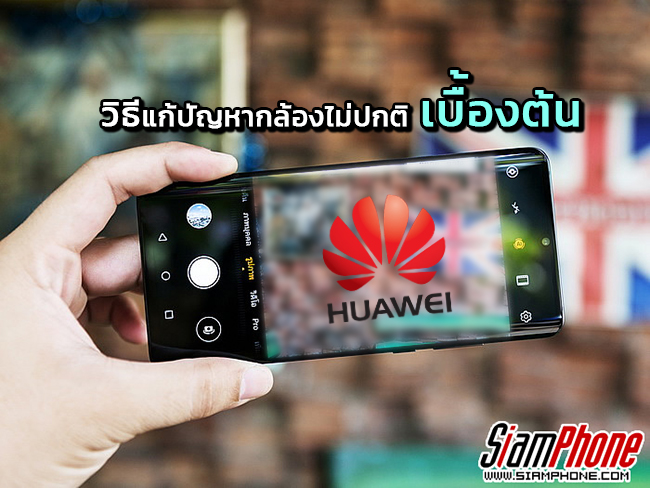phone: (132, 146, 568, 367)
